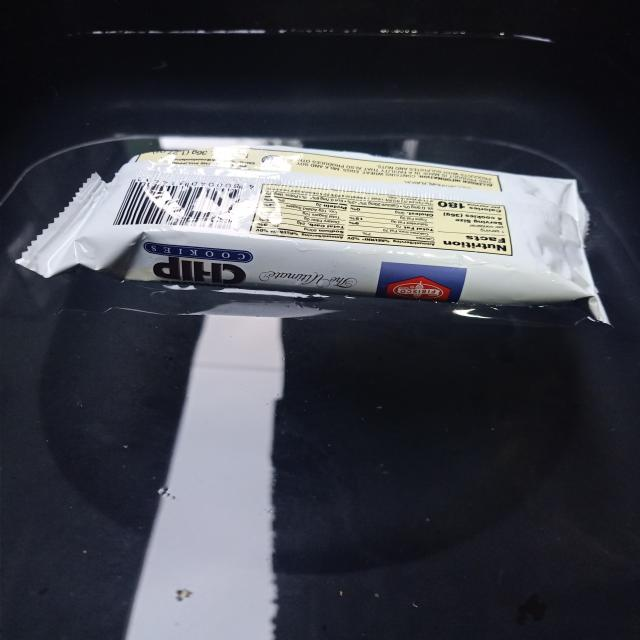Plastic Wrapper: (7, 128, 630, 338)
